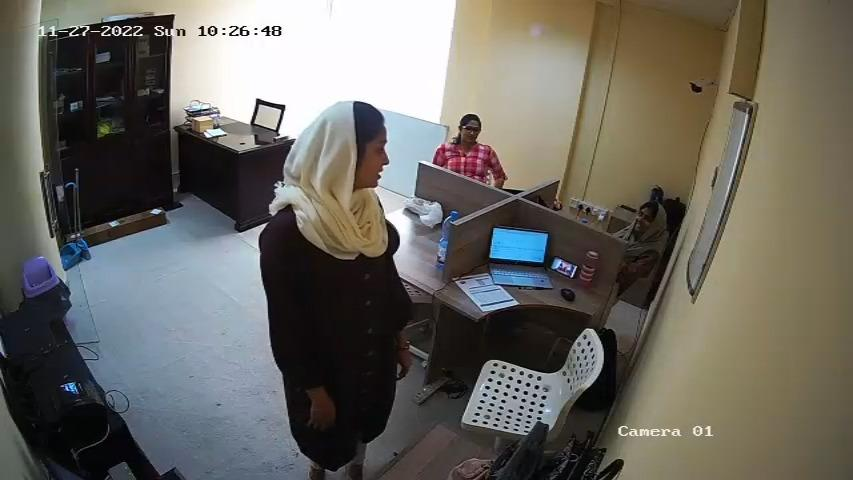no_apron: (278, 206, 380, 375)
